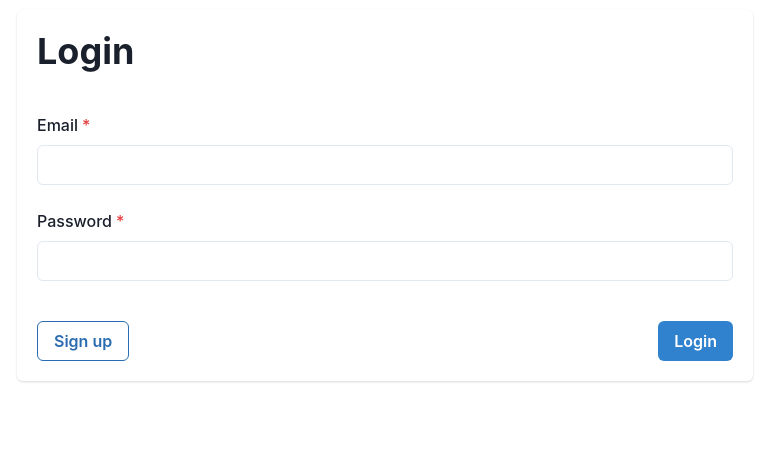
Test: Login › should show required errors
The width and height of the screenshot is (771, 450).
What coordinates should you click on to do the following:
click the button "Login"
I would click on:
 (696, 341)
Its box is [658,321,733,361].
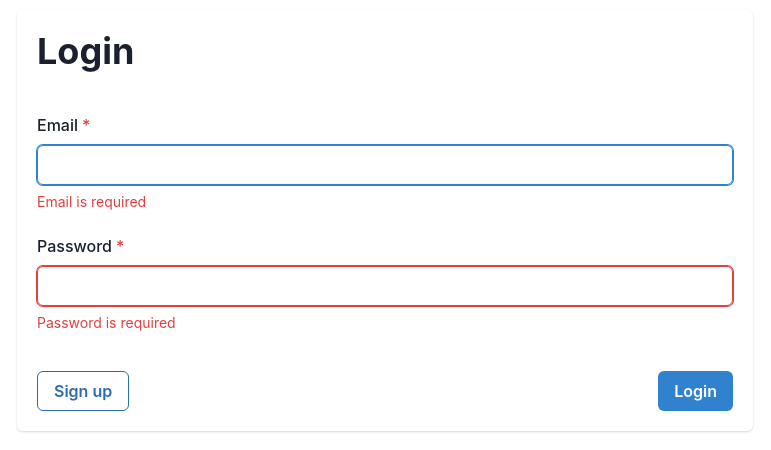
Check: the text "Email is required" is shown, box [37,193,146,210]
Check: the text "Password is required" is shown, box [37,314,176,331]
